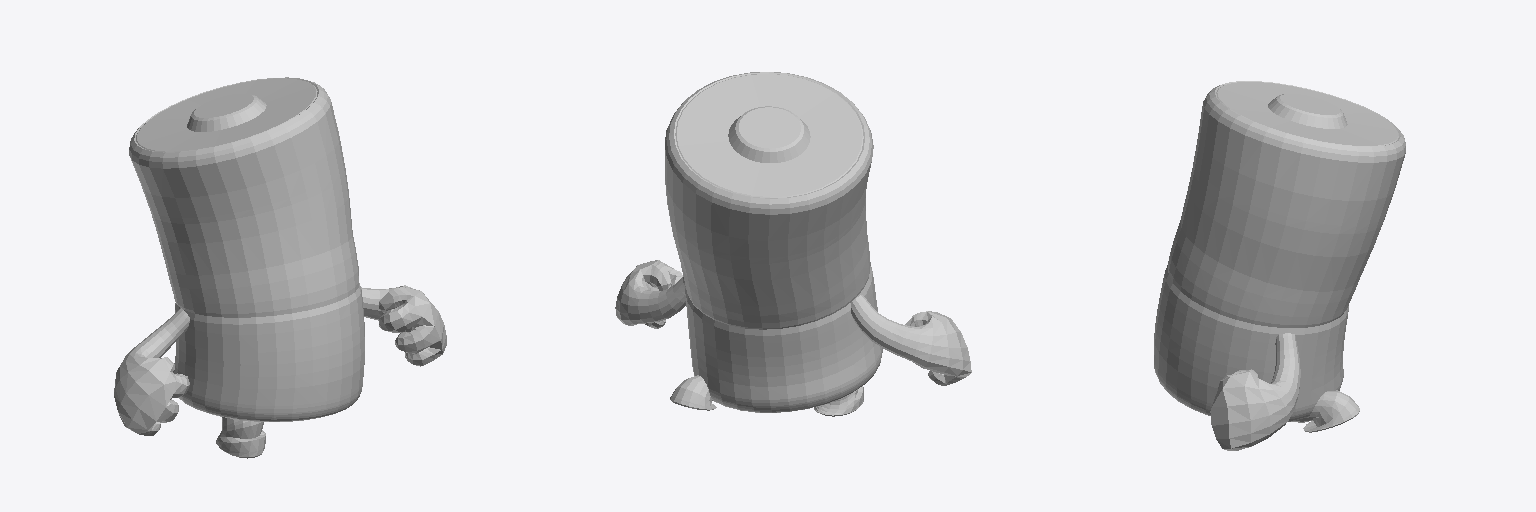
Rendered from boi-5.obj.
3 renders of one model, left to right at view 1: azimuth 30°, elevation 25°; view 2: azimuth 150°, elevation 25°; view 3: azimuth 270°, elevation 25°, orthographic.
Parts seen in each view (by area): view 1: meshes_0; view 2: meshes_0; view 3: meshes_0.
Part boxes in pixels (x1,y1,x2,y2): meshes_0: (114,77,446,458); meshes_0: (615,72,971,416); meshes_0: (1154,81,1405,450).
Bounding box in the file's own units: 121 × 110 × 79.43.